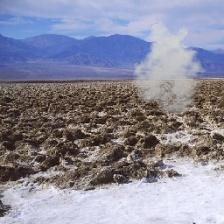fire: (128, 22, 211, 116)
